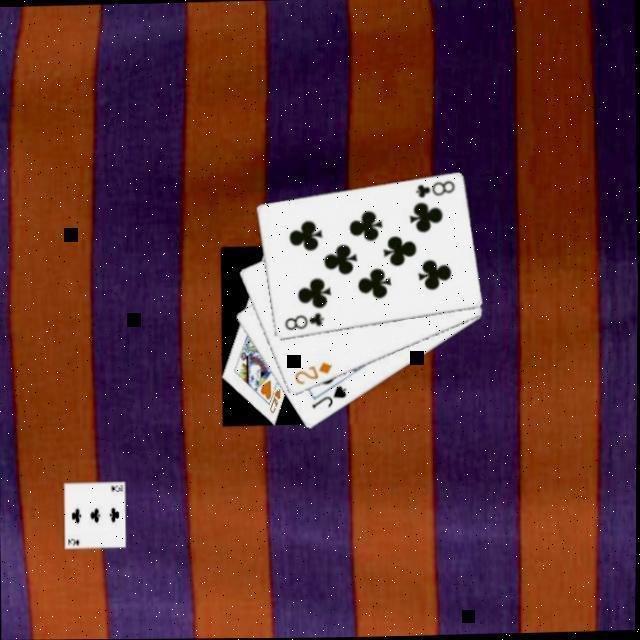2D: (290, 359, 334, 388)
8C: (280, 310, 326, 334), (411, 178, 456, 202)
JS: (307, 383, 349, 412)
